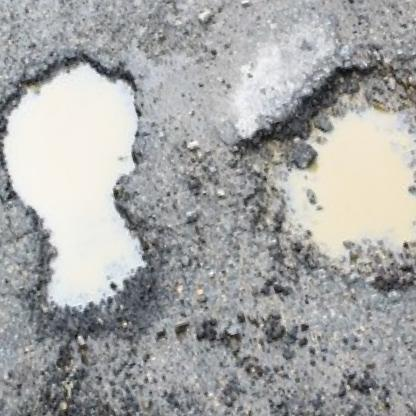pothole: (0, 28, 203, 352), (217, 27, 416, 331)
